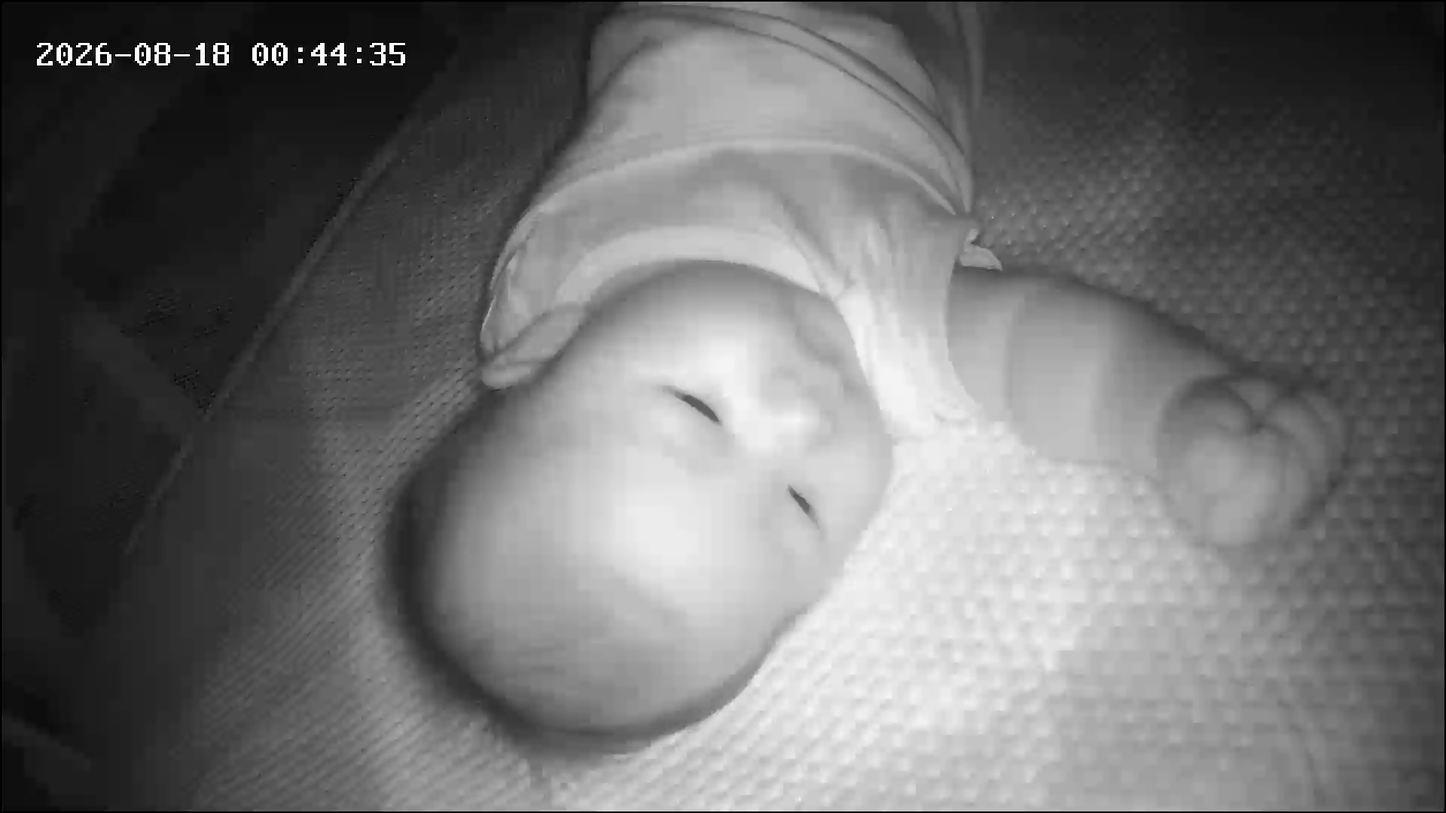baby: (337, 4, 1359, 768)
baby_face: (372, 253, 912, 751)
